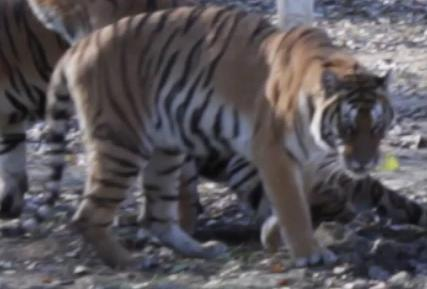tiger: (47, 6, 421, 264)
